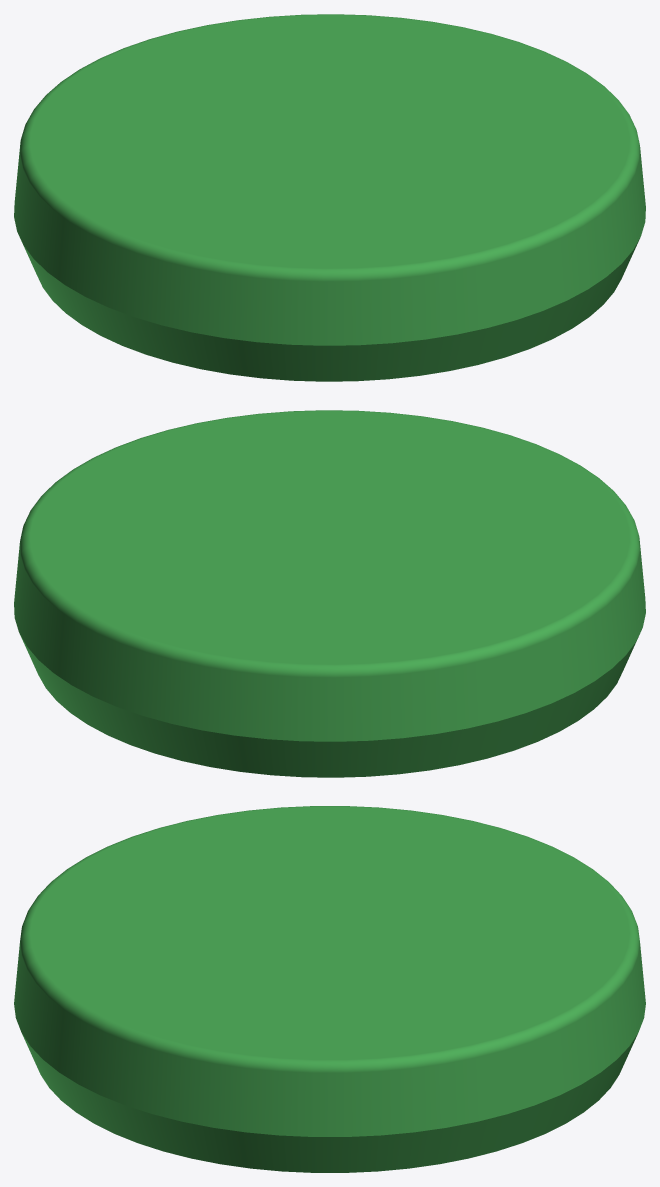
Rendered from MGN12R_CoverCap.obj.
The picture shows the model from 3 angles, top to bottom: view 1: azimuth 30°, elevation 25°; view 2: azimuth 150°, elevation 25°; view 3: azimuth 270°, elevation 25°; orthographic projection.
Parts seen in each view (by area): view 1: mesh4518, mesh4516, mesh4515, mesh4517; view 2: mesh4518, mesh4516, mesh4515, mesh4517; view 3: mesh4518, mesh4516, mesh4515, mesh4517.
Boxes of the visible parts, bbox=[...] form: mesh4518: bbox=[30, 15, 629, 268]; mesh4516: bbox=[14, 145, 645, 345]; mesh4515: bbox=[20, 238, 639, 381]; mesh4517: bbox=[20, 14, 639, 281]; mesh4518: bbox=[30, 411, 629, 664]; mesh4516: bbox=[14, 541, 645, 741]; mesh4515: bbox=[20, 634, 639, 777]; mesh4517: bbox=[20, 410, 639, 677]; mesh4518: bbox=[30, 807, 629, 1059]; mesh4516: bbox=[14, 943, 645, 1136]; mesh4515: bbox=[22, 1034, 637, 1172]; mesh4517: bbox=[20, 806, 639, 1072].
Bounding box in the file's own units: 0.00599 × 0.0012 × 0.006.
